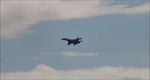maybay_muctieu: (62, 36, 83, 49)
